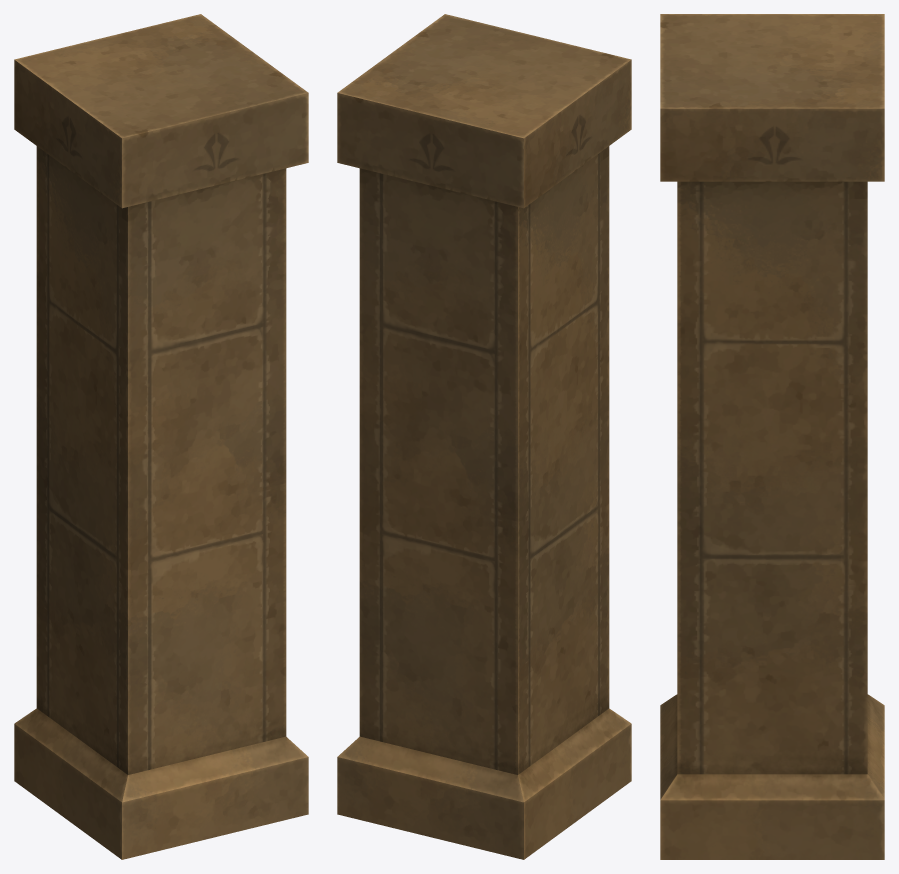
Rendered from wall_pillar.fbx.
3 views of the same model, side by side, from view 1: azimuth 30°, elevation 25°; view 2: azimuth 150°, elevation 25°; view 3: azimuth 270°, elevation 25° (orthographic). The views are drawn at different scales.
Visible parts, largest first — view 1: wall_pillar; view 2: wall_pillar; view 3: wall_pillar.
Part boxes in pixels (x1,y1,x2,y2): wall_pillar: (14, 14, 308, 859); wall_pillar: (337, 14, 631, 859); wall_pillar: (660, 14, 884, 859).
Size of the model in its own units: 70.53 by 261 by 70.53.
